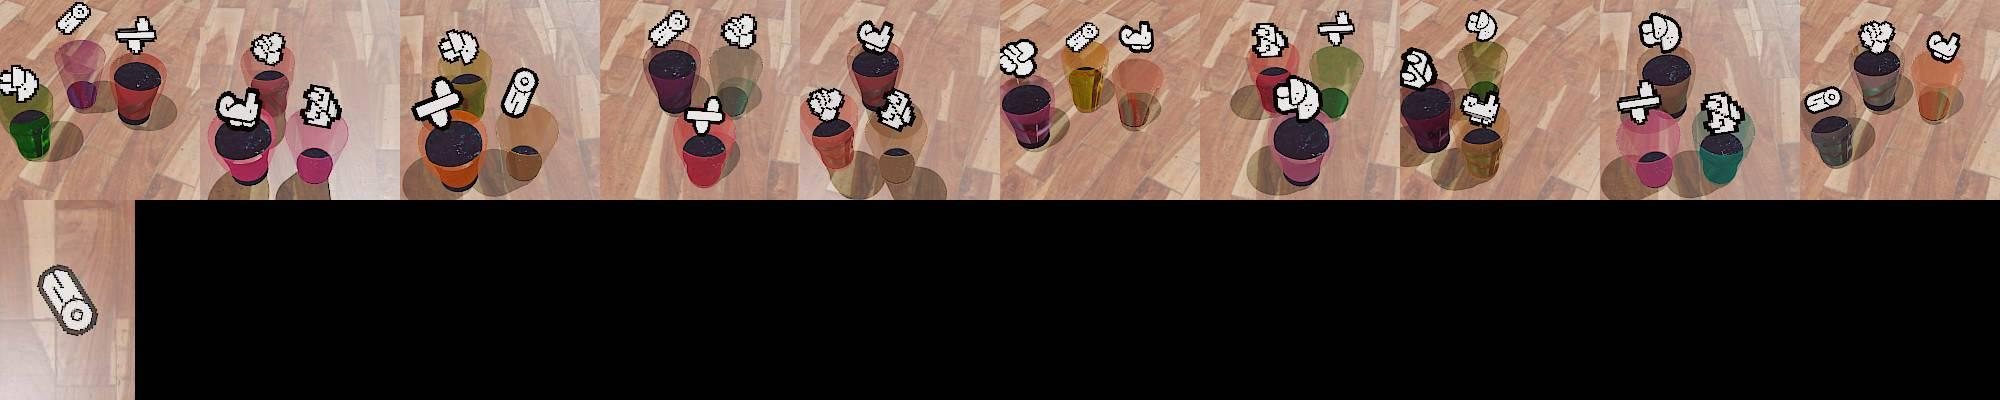icon: (36, 264, 98, 338), (411, 76, 463, 129), (1272, 74, 1321, 121), (1700, 90, 1745, 136), (214, 87, 263, 129), (1617, 80, 1662, 125), (501, 68, 540, 118), (681, 92, 726, 135), (300, 83, 342, 127), (1638, 11, 1682, 54), (1459, 83, 1501, 127), (875, 89, 917, 131), (648, 9, 691, 48), (116, 15, 159, 55), (436, 28, 480, 65), (1401, 47, 1437, 90), (999, 38, 1038, 78), (0, 65, 41, 102), (1316, 10, 1357, 47), (1250, 20, 1290, 57), (719, 13, 759, 50), (806, 85, 846, 122), (856, 18, 895, 54), (1857, 20, 1897, 55), (249, 31, 287, 65), (55, 3, 93, 37), (1064, 19, 1101, 54), (1119, 20, 1154, 55), (1926, 29, 1960, 64), (1464, 9, 1499, 43), (1804, 85, 1843, 113)
